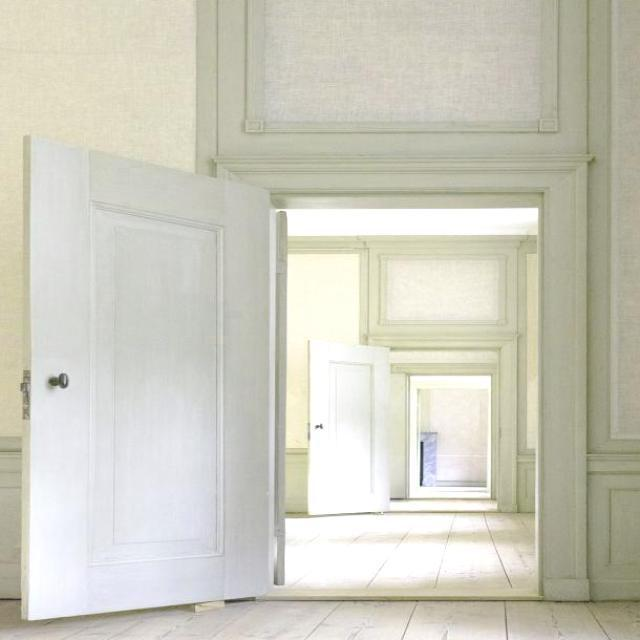door: (20, 134, 277, 620), (304, 334, 392, 514)
